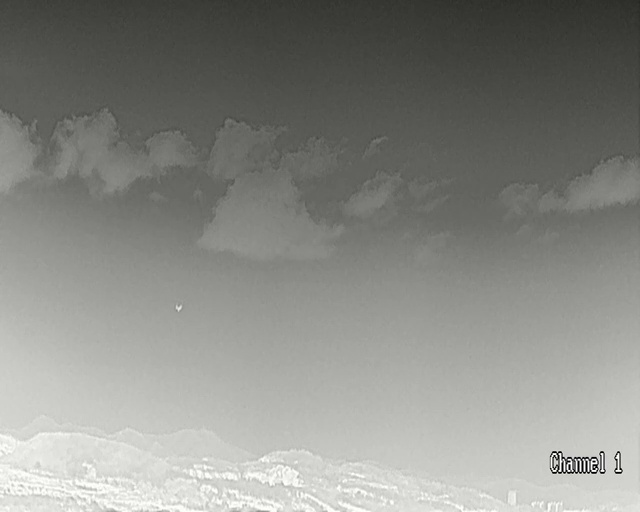uav: (175, 304, 181, 311)
